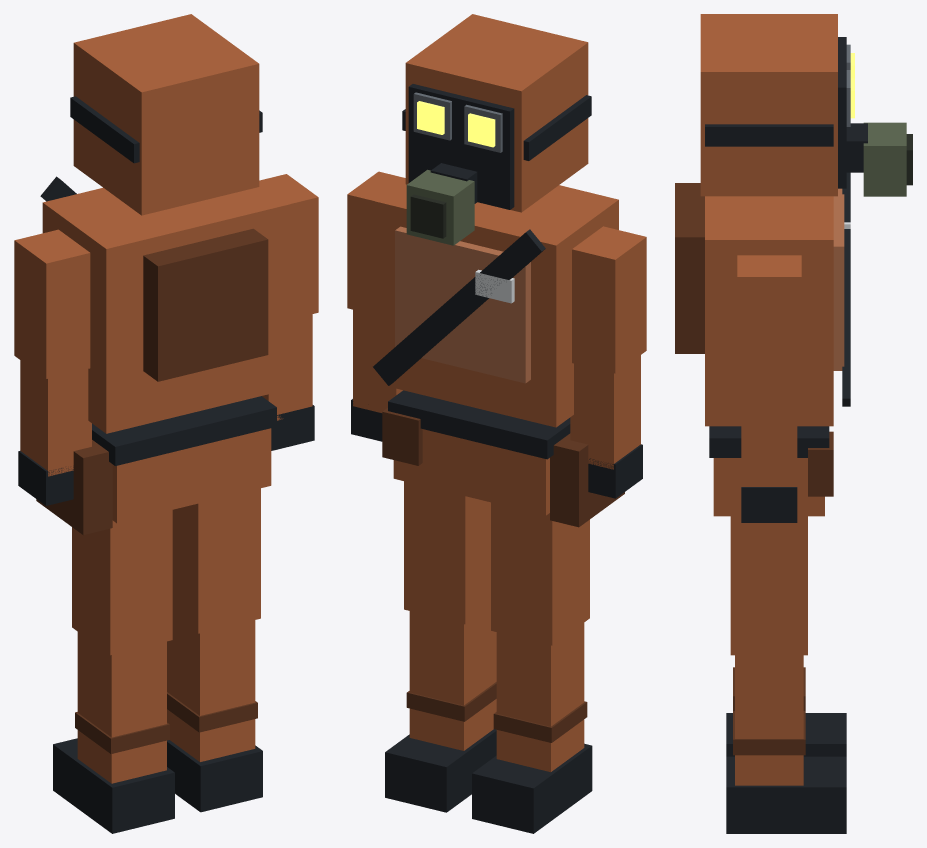
Rendered from gas_mask_rust.glb.
The picture shows the model from 3 angles, left to right: view 1: azimuth 30°, elevation 25°; view 2: azimuth 150°, elevation 25°; view 3: azimuth 270°, elevation 25°; orthographic projection. The views are drawn at different scales.
Parts seen in each view (by area): view 1: Merged4, Merged, Merged7, Merged5, Merged6, _MeshInstance3D_1860, _MeshInstance3D_1871, _MeshInstance3D_1855, Merged2, _MeshInstance3D_1866, Merged3; view 2: Merged4, Merged, Merged7, Merged5, Merged6, _MeshInstance3D_1860, _MeshInstance3D_1871, _MeshInstance3D_1855, Merged2, _MeshInstance3D_1866, Merged3; view 3: Merged, Merged4, Merged6, _MeshInstance3D_1871, _MeshInstance3D_1866, Merged3, Merged7, Merged5.
Part boxes in pixels (left/top/right/bottom): Merged4: left=40, top=176, right=290, bottom=433; Merged: left=70, top=14, right=262, bottom=215; Merged7: left=36, top=396, right=276, bottom=534; Merged5: left=53, top=632, right=174, bottom=833; Merged6: left=167, top=615, right=262, bottom=812; _MeshInstance3D_1860: left=72, top=510, right=172, bottom=655; _MeshInstance3D_1871: left=172, top=488, right=260, bottom=633; _MeshInstance3D_1855: left=14, top=229, right=90, bottom=378; Merged2: left=18, top=360, right=91, bottom=505; _MeshInstance3D_1866: left=259, top=174, right=318, bottom=319; Merged3: left=262, top=314, right=314, bottom=450; Merged4: left=373, top=179, right=618, bottom=427; Merged: left=402, top=14, right=591, bottom=245; Merged7: left=382, top=390, right=624, bottom=527; Merged5: left=472, top=623, right=592, bottom=833; Merged6: left=385, top=606, right=496, bottom=812; _MeshInstance3D_1860: left=491, top=502, right=589, bottom=645; _MeshInstance3D_1871: left=404, top=481, right=490, bottom=624; _MeshInstance3D_1855: left=572, top=226, right=646, bottom=373; Merged2: left=570, top=355, right=642, bottom=498; _MeshInstance3D_1866: left=347, top=171, right=405, bottom=314; Merged3: left=351, top=309, right=402, bottom=441; Merged: left=700, top=14, right=912, bottom=196; Merged4: left=675, top=172, right=850, bottom=426; Merged6: left=726, top=655, right=846, bottom=833; _MeshInstance3D_1871: left=730, top=516, right=807, bottom=655; _MeshInstance3D_1866: left=737, top=255, right=801, bottom=393; Merged3: left=741, top=393, right=797, bottom=522; Merged7: left=709, top=426, right=833, bottom=516; Merged5: left=726, top=667, right=846, bottom=756.
Bounding box in the file's own units: 0.74 × 1.94 × 0.555.
